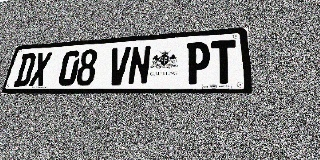0: (57, 50, 81, 86)
8: (75, 49, 99, 86)
D: (13, 53, 37, 87)
N: (127, 45, 152, 85)
P: (185, 41, 210, 84)
T: (211, 39, 237, 84)
V: (106, 47, 131, 85)
X: (28, 52, 53, 86)
